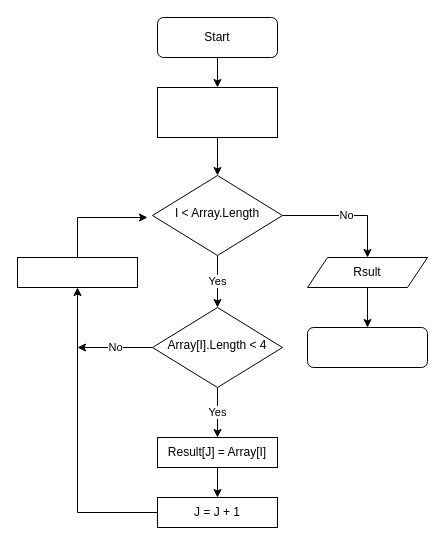
Some shapes in this 445 by 545 pixel diagram are drawn without their labels. The shapes that lost their labels are listed below. From the top down, each one's box as (x1, y1, x2, y2) in pixels, then its label:
(156, 86, 278, 138): I = 0 J = 0 Result[0]
(16, 256, 138, 288): I = I + 1
(306, 326, 428, 368): End
